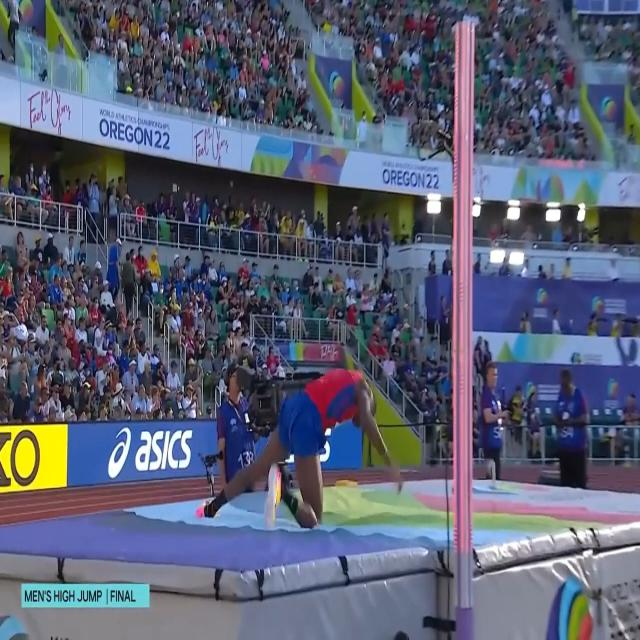land: (198, 366, 398, 528)
